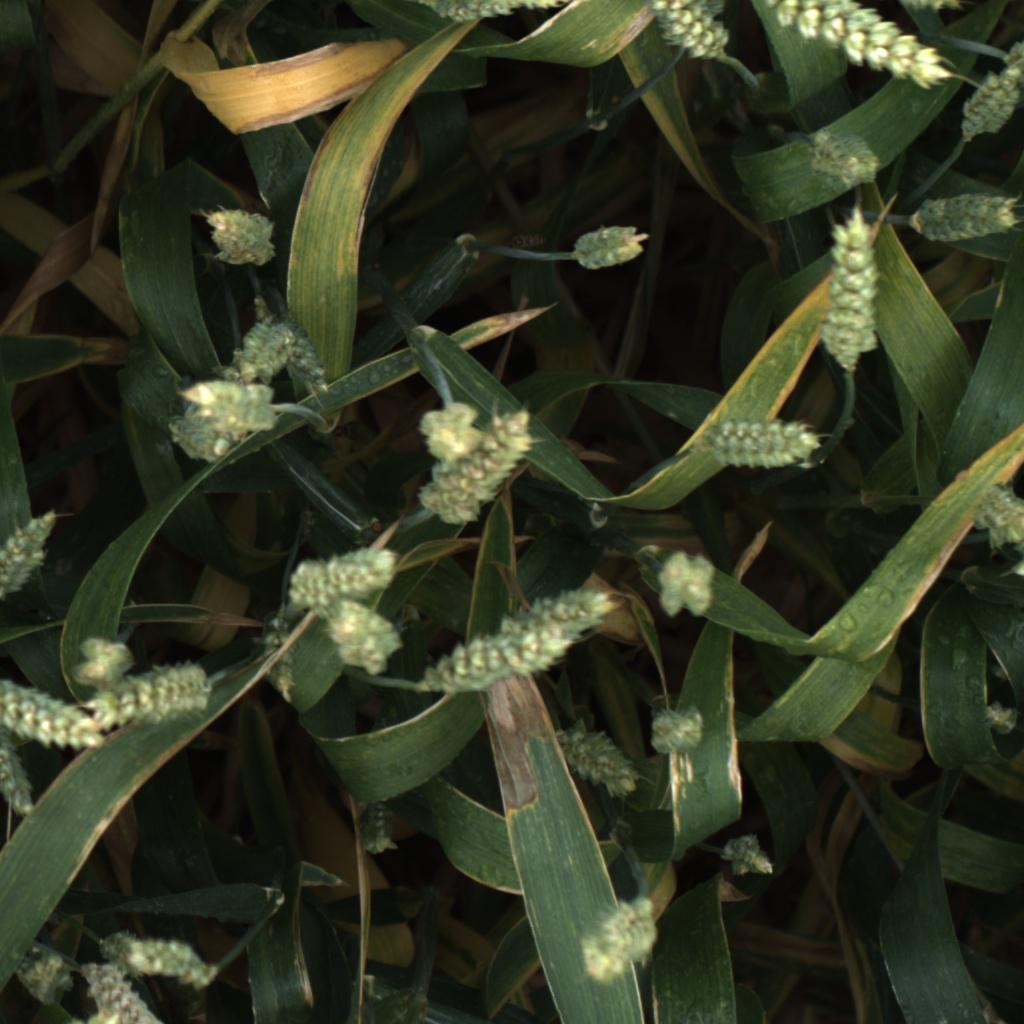0-0: (761, 0, 959, 95), (412, 398, 543, 534), (414, 623, 580, 704), (818, 206, 892, 375), (81, 654, 214, 734), (0, 668, 111, 755), (285, 537, 406, 613), (90, 925, 221, 994), (696, 409, 830, 476), (573, 895, 659, 986), (641, 0, 743, 70), (324, 596, 403, 681), (553, 724, 638, 802), (183, 371, 287, 434), (503, 573, 615, 631), (908, 188, 1019, 245), (0, 503, 65, 600), (226, 308, 307, 384), (201, 200, 283, 274), (74, 959, 166, 1024), (409, 392, 488, 462), (955, 65, 1024, 144), (650, 550, 720, 625), (249, 609, 301, 708), (563, 219, 654, 274), (809, 128, 885, 191), (415, 0, 587, 27), (157, 409, 230, 472), (13, 938, 76, 1010), (970, 477, 1024, 559), (644, 700, 714, 761), (0, 731, 45, 818), (280, 324, 332, 398), (717, 828, 778, 891), (69, 633, 135, 688), (351, 795, 401, 860), (1000, 37, 1024, 95), (82, 1006, 131, 1024)
